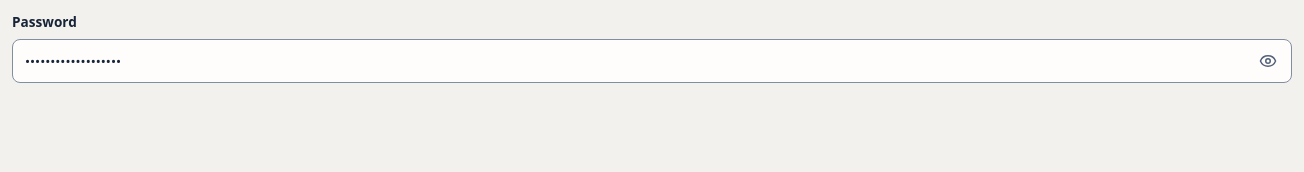
Test: shows and hides the same password without submitting the form
The image size is (1304, 172).
What coordinates should you click on to do the following:
click the button named "Show password"
I would click on:
 (1268, 61)
Its box is [1246, 39, 1290, 83].
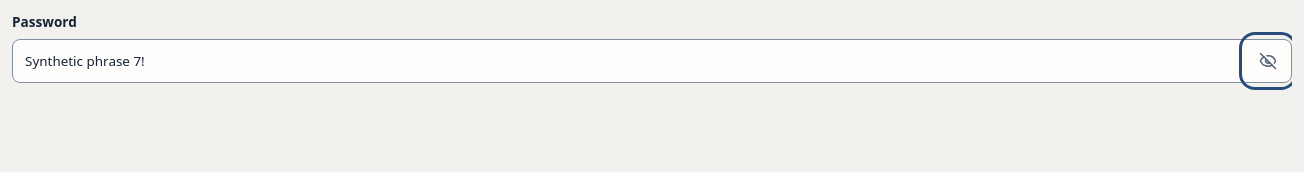
Expected: the field labelled "Password" holds "Synthetic phrase 7!", [12, 39, 1292, 83]
Expected: the field labelled "Password" shows its text, [12, 39, 1292, 83]
What coordinates should you click on to do the following:
click the button named "Hide password"
I would click on:
 (1268, 61)
Its box is [1246, 39, 1290, 83].
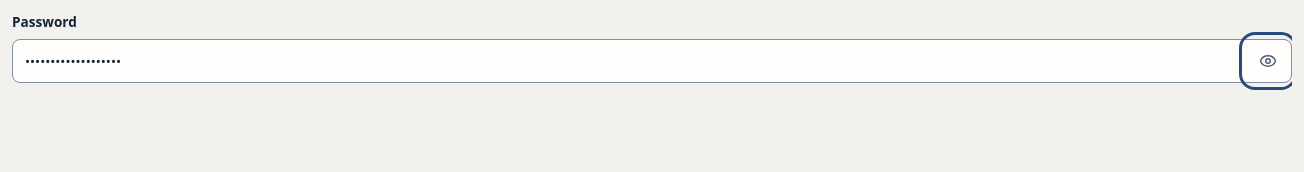
Expected: the password field labelled "Password" hides its text, [12, 39, 1292, 83]
